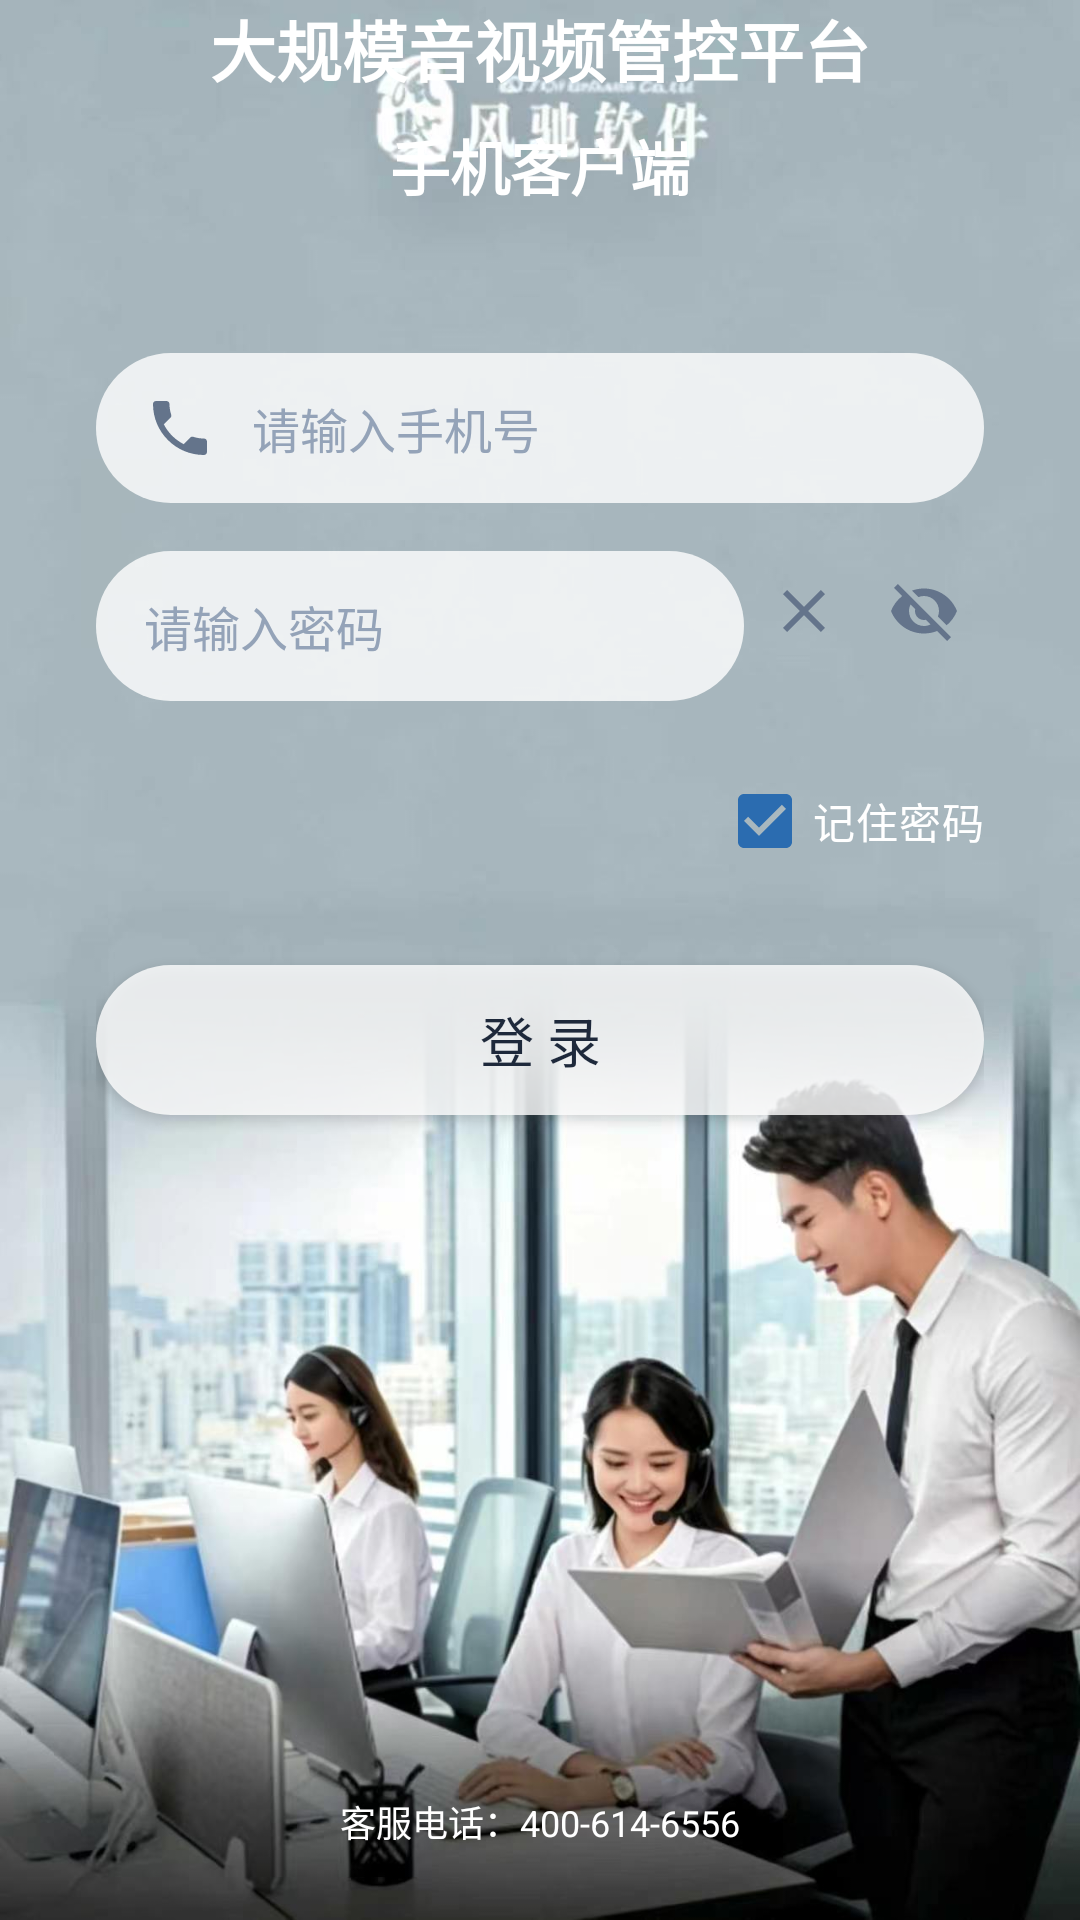

Named icons in this screenshot (1080×1920) and their centers, (x,y):
clear: (804,611)
visibility off: (924,612)
